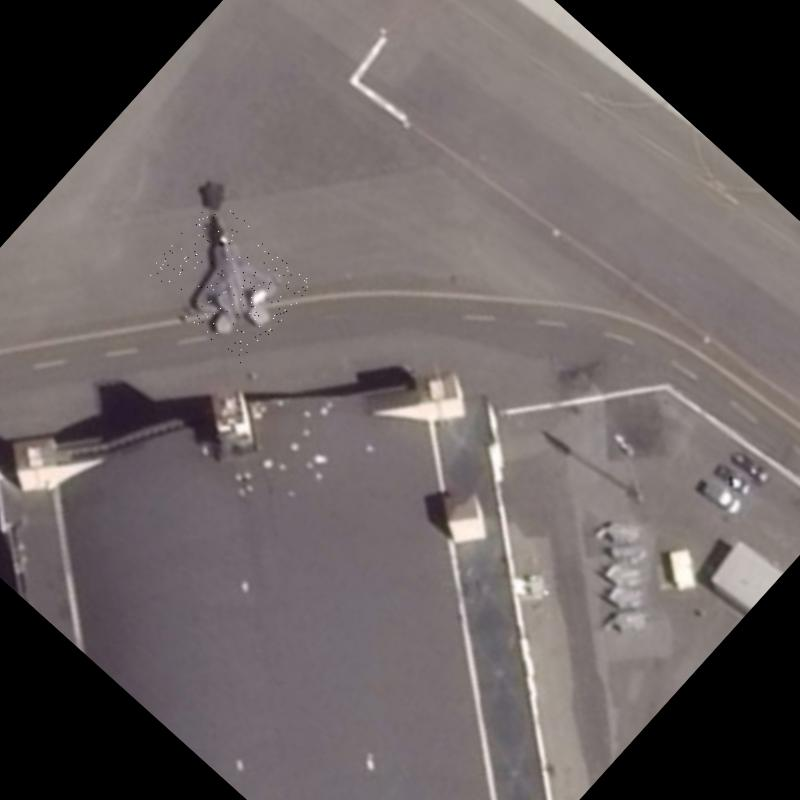A15: (141, 194, 314, 366)
